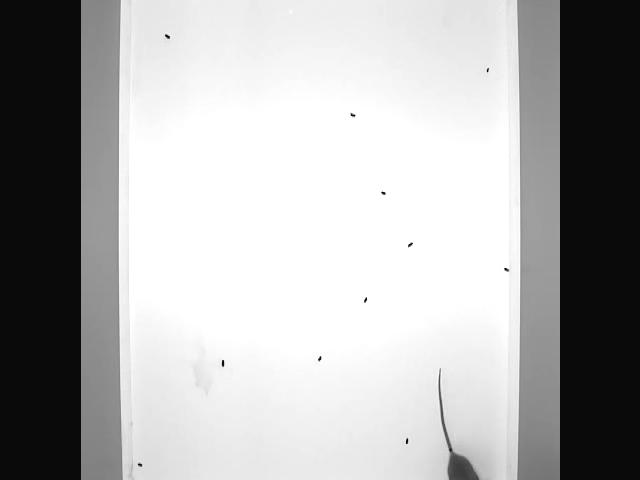Tikus: (431, 364, 497, 480)
